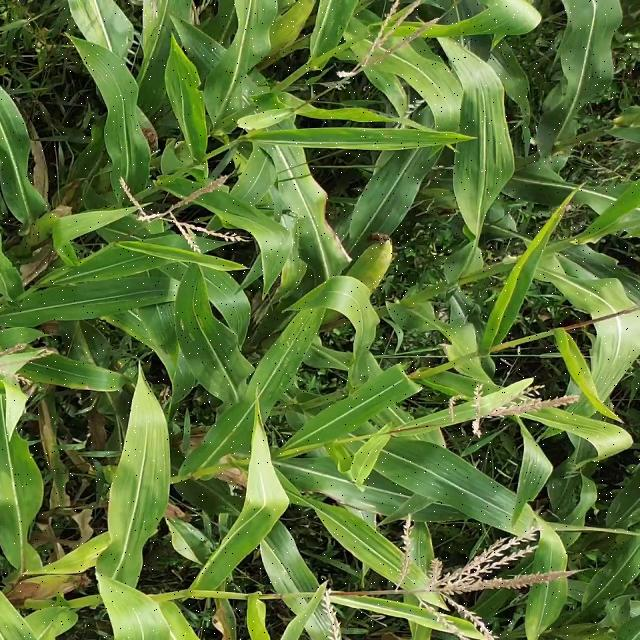gray-leaf-spot: (175, 313, 218, 355)
northern-leaf-blight: (148, 1, 175, 35)
southern-leaf-blight: (276, 332, 308, 378)
